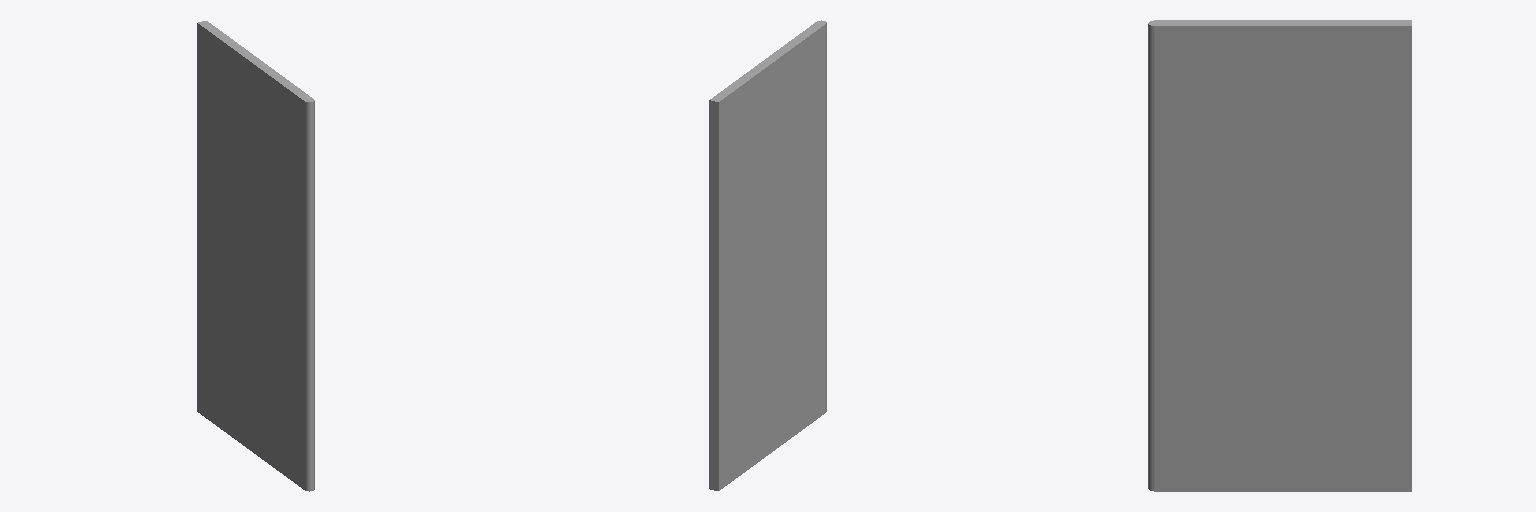
The robot description file, URDF, robot "door":
<?xml version="1.0"?>

<robot name="door">

  <material name="white">    
      <color rgba="0.7 0.7 0.7 1.0"/>  
  </material>
  <material name="black">    
      <color rgba="0.5 0.5 0.5 0.0"/>  
  </material>

  <link name="shaft">
    <visual>
      <origin xyz="0 0 0"/>
      <geometry>
        <cylinder radius="0.025" length="2"/>
      </geometry>
      <material name="white"/>
    </visual>
    <collision>
      <origin xyz="0 0 0"/>
      <geometry>
        <cylinder radius="0.025" length="2"/>
      </geometry>
    </collision>
  </link>

  <link name="door">
    <visual>
      <origin xyz="0 0.5 0"/>
      <geometry>
        <box size="0.05 1.0 2"/>
      </geometry>
      <material name="white"/>
    </visual>
    <collision>
      <origin xyz="0 0.5 0"/>
      <geometry>
        <box size="0.05 1.0 2"/>
      </geometry>
    </collision>
    <inertial>
      <mass value="1"/>
      <inertia ixx="1" ixy="0.0" ixz="0.0" iyy="1" iyz="0.0" izz="1"/>
    </inertial>
  </link>

  <joint name="link" type="revolute">
    <origin xyz="0 0 0" rpy="0 0 0"/>
    <parent link="shaft"/>
    <child link="door"/>
    <axis xyz="0.0 0.0 1.0"/>
    <limit effort="0" velocity="0.2"/>
  </joint>
  
</robot>

--- Facts derived from the render (not from the file) ---
The picture shows the robot from 3 angles, left to right: view 1: azimuth 30°, elevation 25°; view 2: azimuth 150°, elevation 25°; view 3: azimuth 270°, elevation 25°; orthographic projection.
Robot: door — 2 links, 1 joints (1 revolute); root link shaft; default pose: all joints at 0.
Visible links, largest first — view 1: door, shaft; view 2: door; view 3: door, shaft.
Link boxes in pixels (x1,y1,x2,y2): door: (197, 21, 311, 489); shaft: (304, 98, 314, 491); door: (709, 22, 825, 490); door: (1155, 20, 1411, 491); shaft: (1148, 20, 1160, 491).
Size in the robot's own frame: 0.05 by 1.02 by 2 metres.
Geometry: primitives only (box / cylinder / sphere), no mesh files.